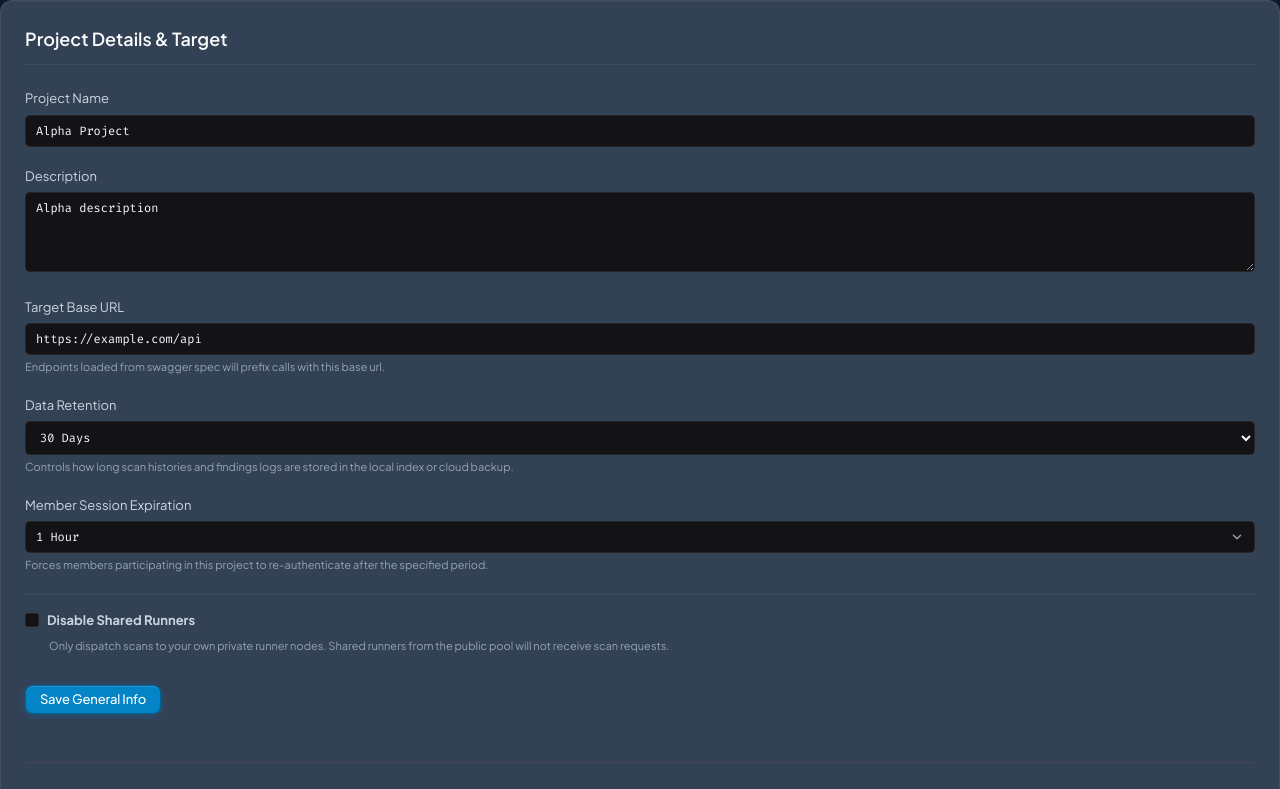
Test: GeneralTab Component › handles save error when backend response is not ok and json parse fails
Click the button "Save General Info". click: (93, 700)
box: [25,685,161,714]
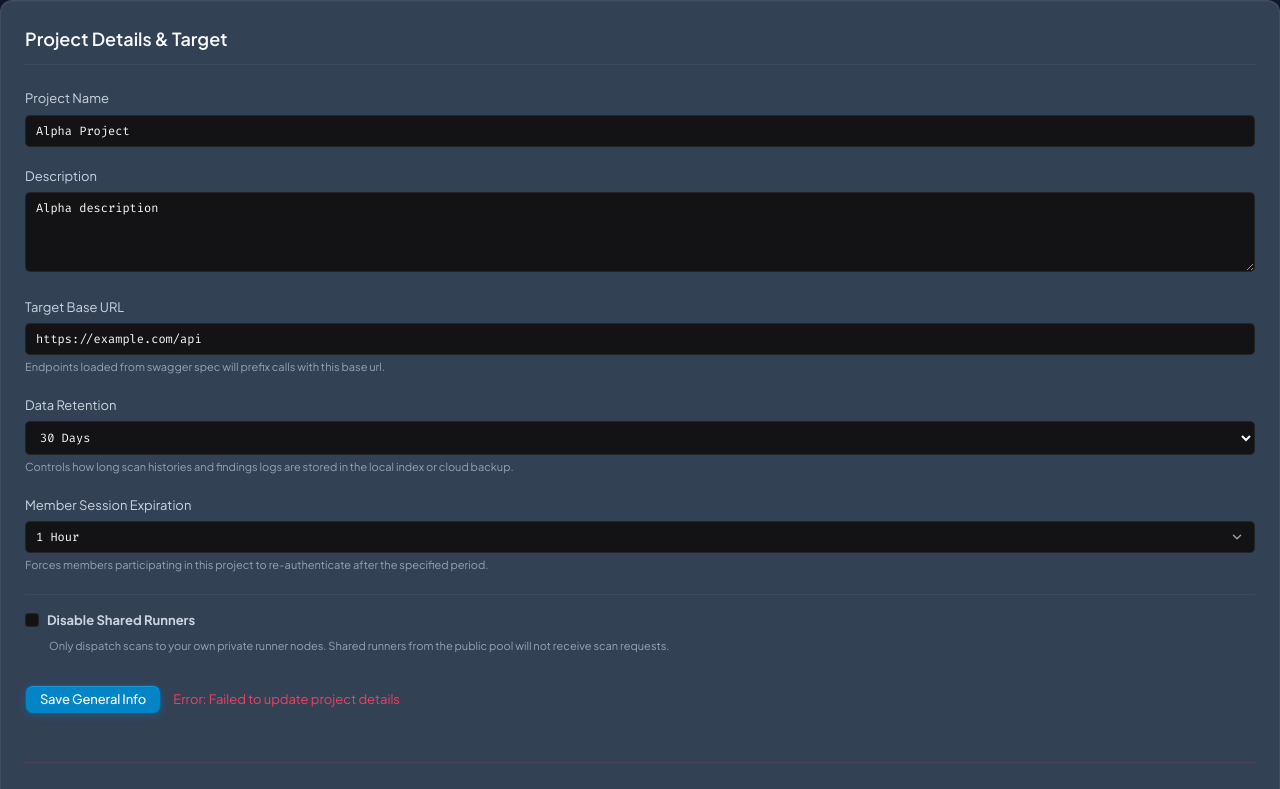
Expected: the text "Error: Failed to update project details" is shown, [173,690,400,710]
